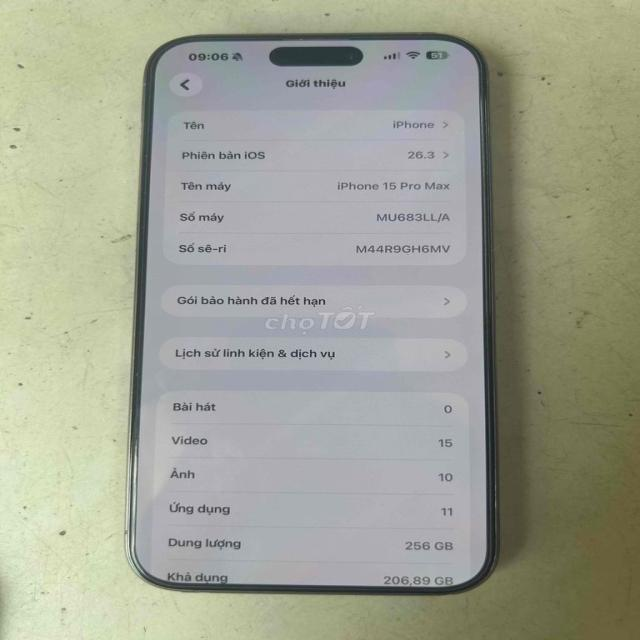gen_15: (118, 28, 530, 608)
